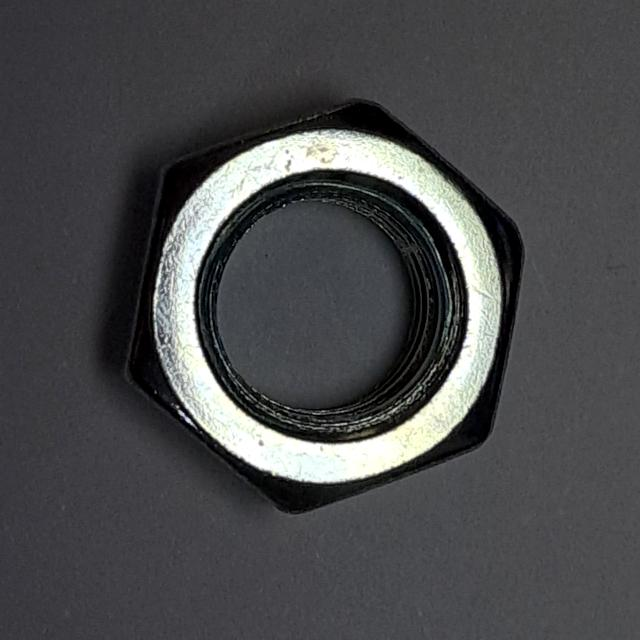Excellent: (106, 79, 547, 536)
